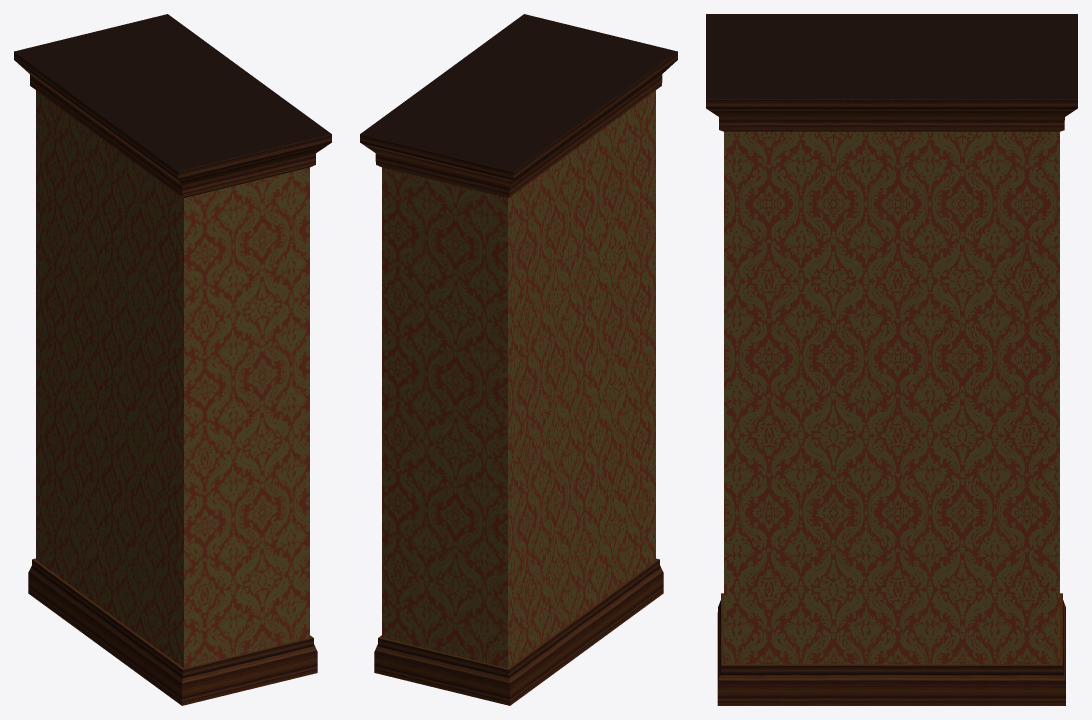
The model's file is Wall_Plain_Box.fbx.
3 views of the same model, side by side, from view 1: azimuth 30°, elevation 25°; view 2: azimuth 150°, elevation 25°; view 3: azimuth 270°, elevation 25° (orthographic). The views are drawn at different scales.
Parts seen in each view (by area): view 1: Wall_DoorV2.004; view 2: Wall_DoorV2.004; view 3: Wall_DoorV2.004.
Part boxes in pixels (<box>): Wall_DoorV2.004: <box>14,14,331,705</box>; Wall_DoorV2.004: <box>360,14,677,705</box>; Wall_DoorV2.004: <box>706,14,1077,705</box>.
Size of the model in its own units: 111 by 371 by 205.
